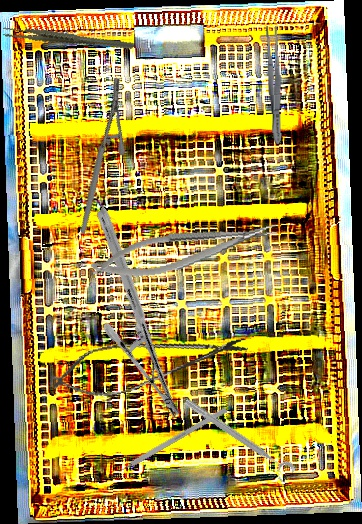Dressing Forceps: (263, 25, 286, 145)
Fixation Ring: (177, 394, 298, 486)
Hook Surgical: (108, 406, 228, 480)
Micro Scissor: (47, 317, 252, 408)
Needle Holder: (28, 206, 249, 420), (34, 75, 165, 235), (88, 214, 281, 287)
Tissue Forceps: (1, 4, 135, 74)
